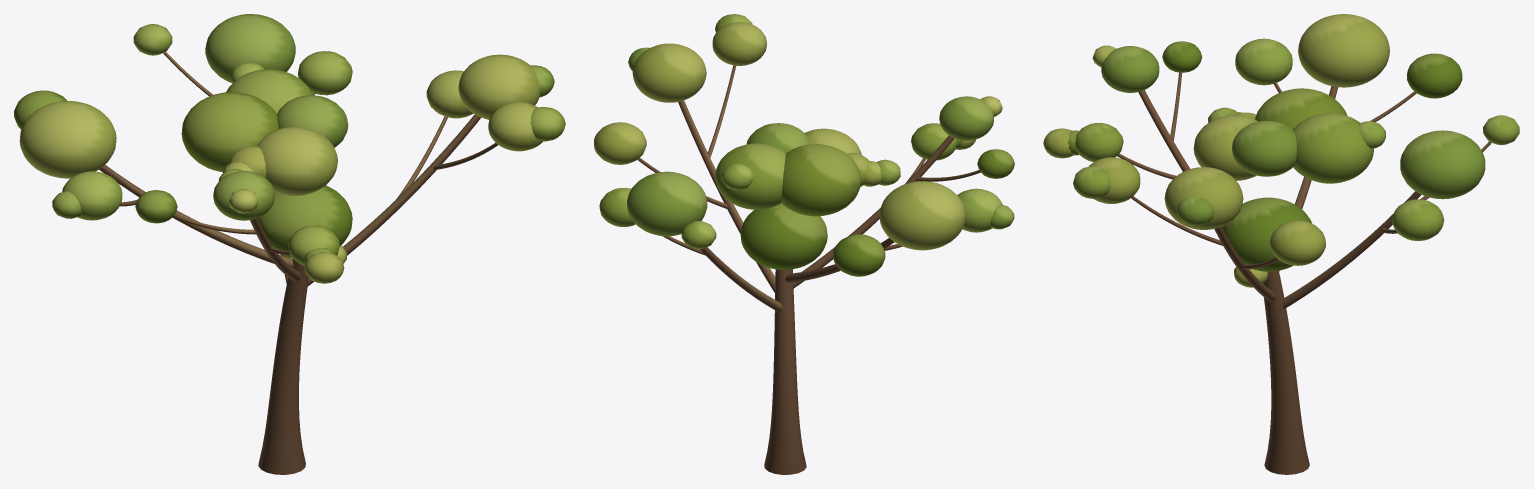
The model's file is acacia-tree.obj.
3 renders of one model, left to right at view 1: azimuth 30°, elevation 25°; view 2: azimuth 150°, elevation 25°; view 3: azimuth 270°, elevation 25°, orthographic. The views are drawn at different scales.
Visible parts, largest first — view 1: tree; view 2: tree; view 3: tree.
Boxes of the visible parts, left/top/right/bottom form: tree: left=14, top=14, right=565, bottom=474; tree: left=594, top=14, right=1014, bottom=474; tree: left=1043, top=14, right=1519, bottom=474.
Bounding box in the file's own units: 667 × 544 × 628.
